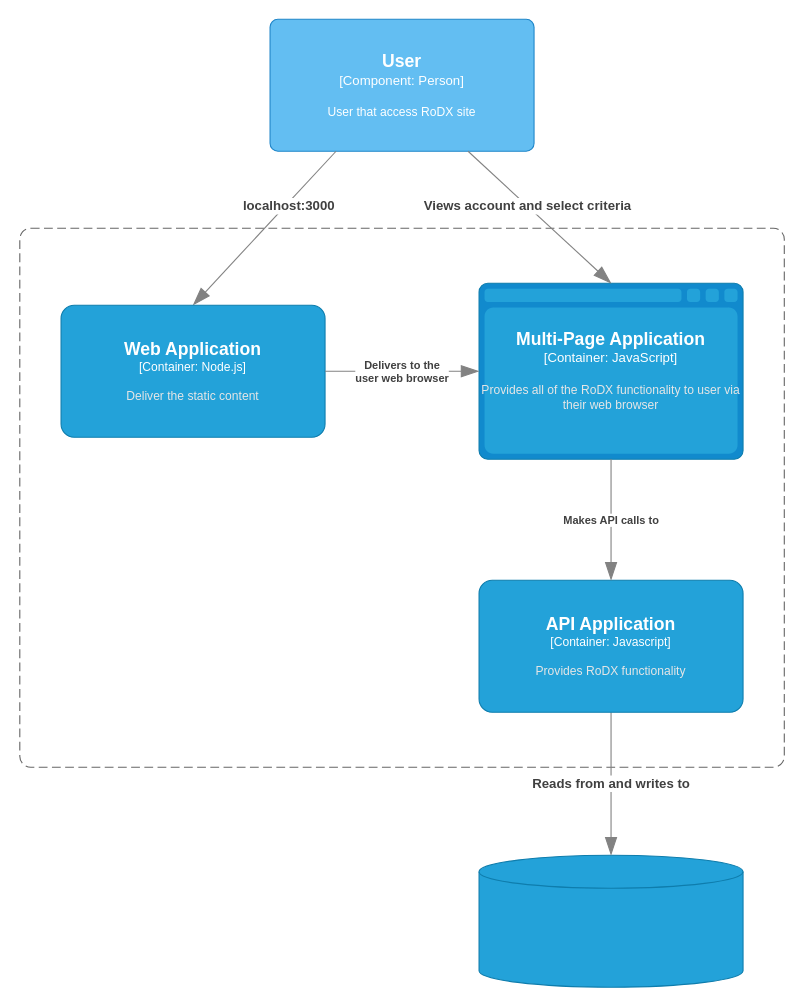
Image size: 803x1007. Some labels were removed from this diagram. The box of each missing label's shape, as (x1, y1, x2, y2) in pixels:
Database [Container: MongoDB] Store data for users: (478, 854, 743, 987)
RoDX [Software System]: (19, 227, 784, 767)
